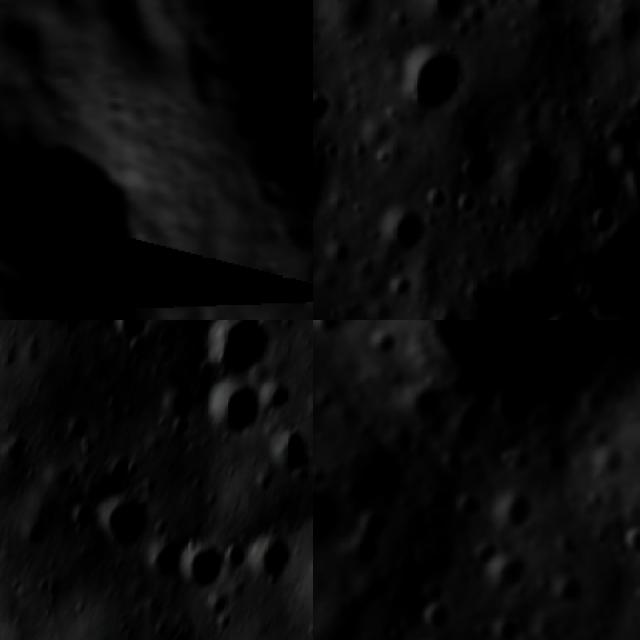crater: (397, 320, 640, 450), (402, 46, 472, 116), (200, 381, 266, 447), (164, 541, 224, 607), (88, 490, 154, 547), (241, 528, 301, 589), (197, 320, 264, 374), (534, 287, 626, 320), (476, 552, 530, 605), (488, 487, 538, 538), (459, 133, 504, 189), (132, 536, 180, 588), (381, 206, 429, 252), (157, 379, 194, 437), (259, 377, 301, 422), (338, 534, 386, 573), (582, 199, 622, 243), (408, 386, 448, 429), (553, 571, 591, 606), (449, 486, 484, 522), (416, 602, 454, 634), (354, 507, 393, 538), (623, 137, 640, 206), (313, 82, 339, 126), (415, 183, 451, 209), (106, 320, 150, 341), (429, 0, 460, 27), (620, 524, 640, 564), (450, 183, 474, 216), (313, 320, 345, 337), (313, 487, 325, 521)
